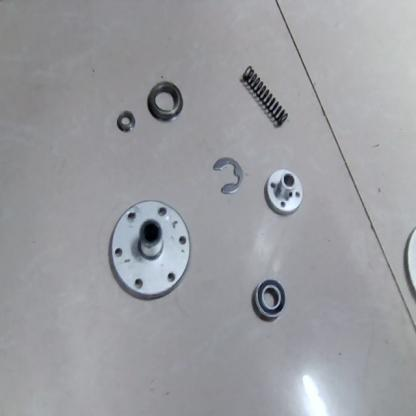FOD: (109, 195, 191, 304), (237, 62, 289, 129), (265, 169, 306, 215), (145, 80, 186, 122), (210, 154, 246, 198), (252, 278, 286, 324), (118, 108, 137, 135)
